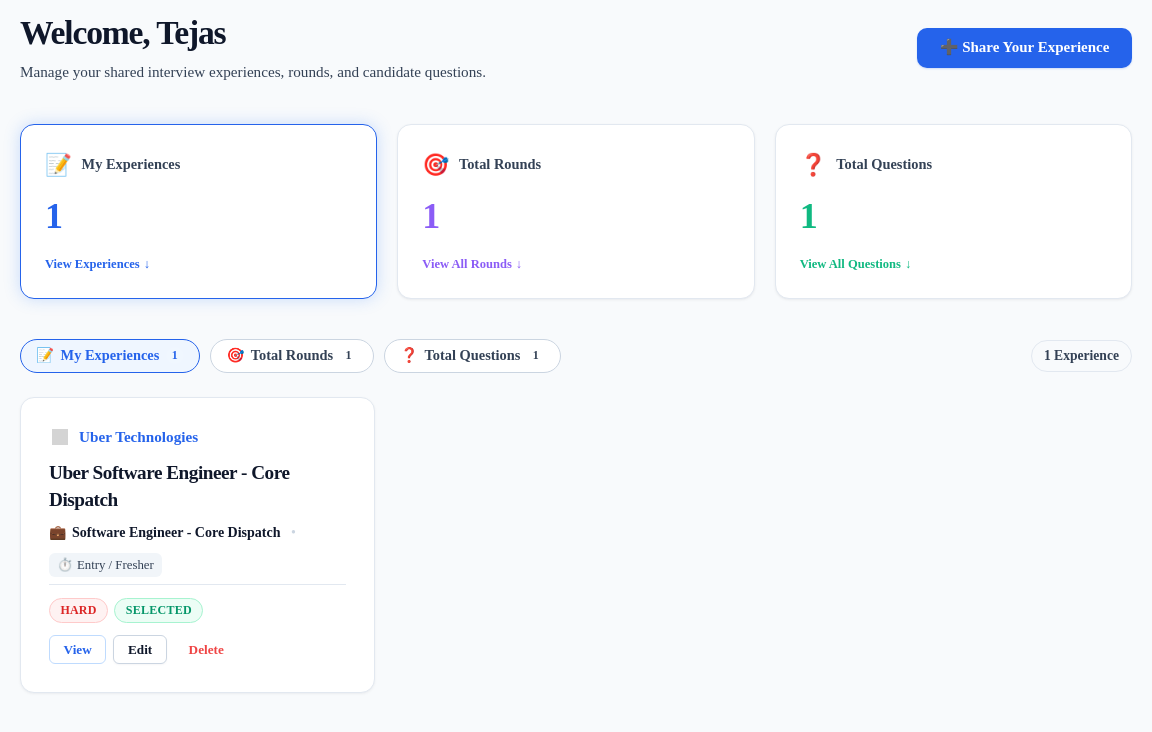
Scenario: DASHBOARD: Stat Cards, Interactive Redirects & View Switching › switches back to My Experiences when My Experiences stat card or tab is clicked
The width and height of the screenshot is (1152, 732).
Expected: the link "Uber Software Engineer - Core Dispatch" is shown, x1=49 y1=462 x2=290 y2=510
Switch to rounds first
Step 1. Click the button with id "stat-total-rounds" → (500, 164), box x1=397 y1=124 x2=755 y2=299
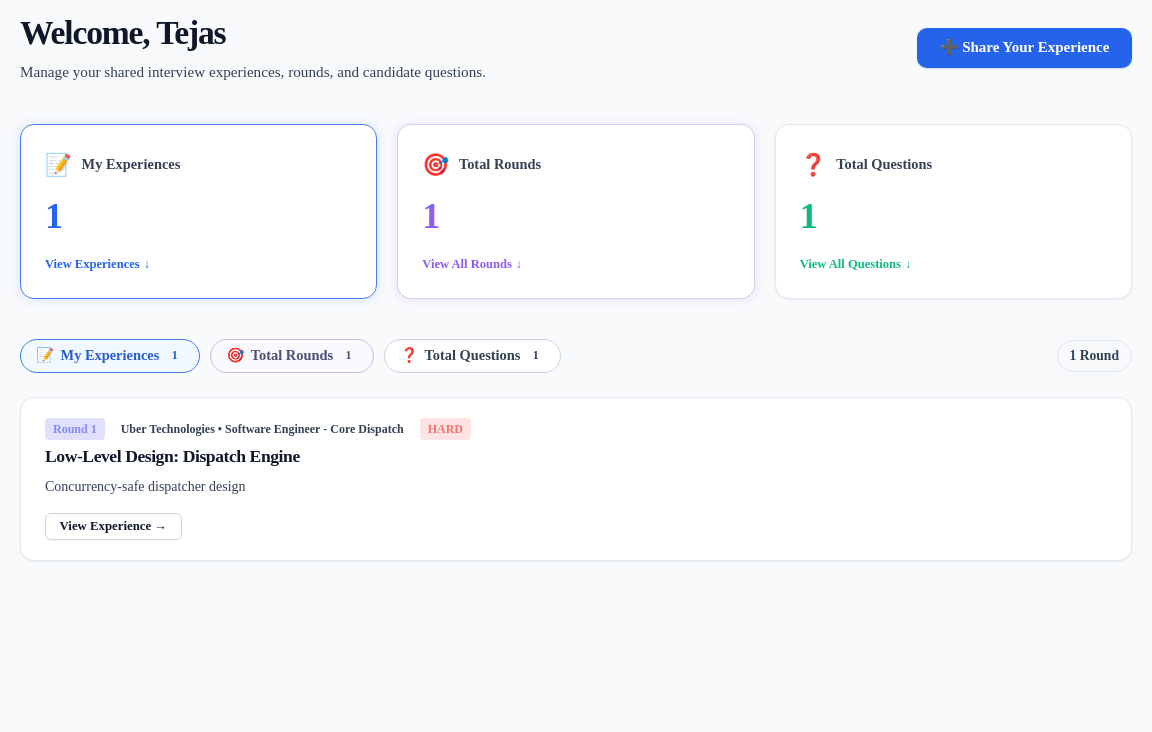
Now the element that starts with "Round" is shown, box x1=20 y1=396 x2=1132 y2=562
Click My Experiences tab pill
Step 2. Click the button with id "dashboard-tab-experiences" → (110, 356), box x1=20 y1=339 x2=200 y2=372
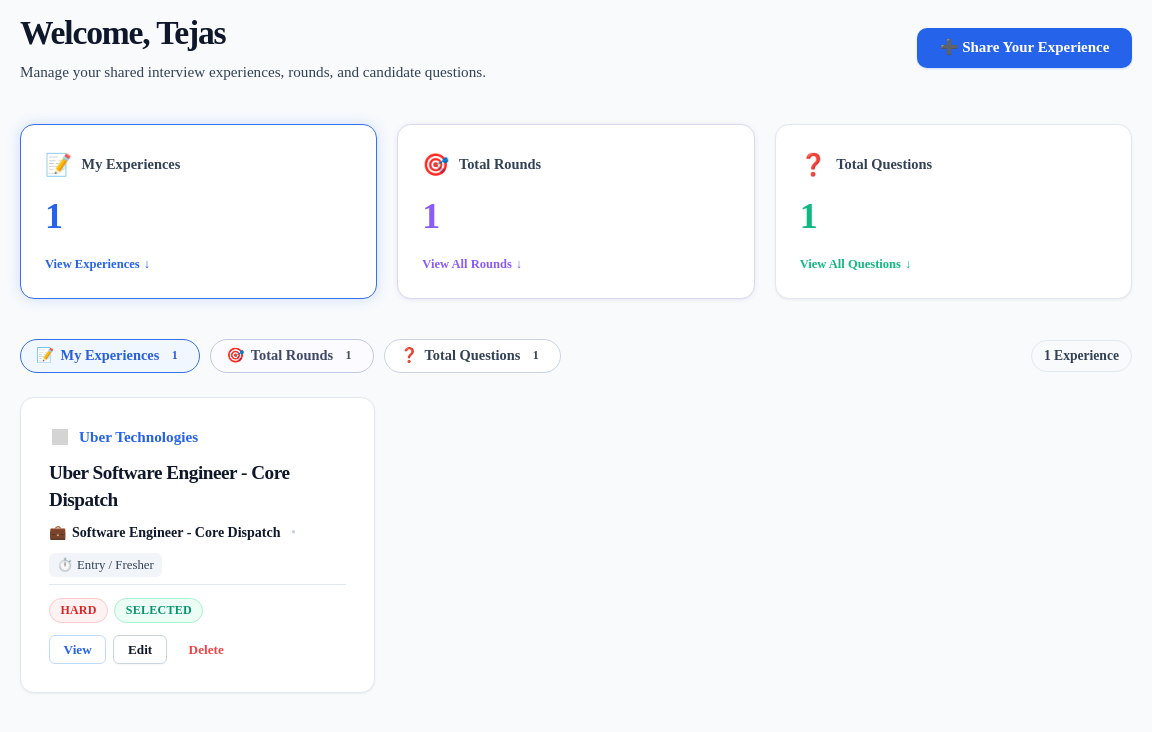
Now the element that starts with "Uber Technologies" is shown, box x1=20 y1=396 x2=375 y2=693
Now the link "Uber Software Engineer - Core Dispatch" is shown, box x1=49 y1=462 x2=290 y2=510
